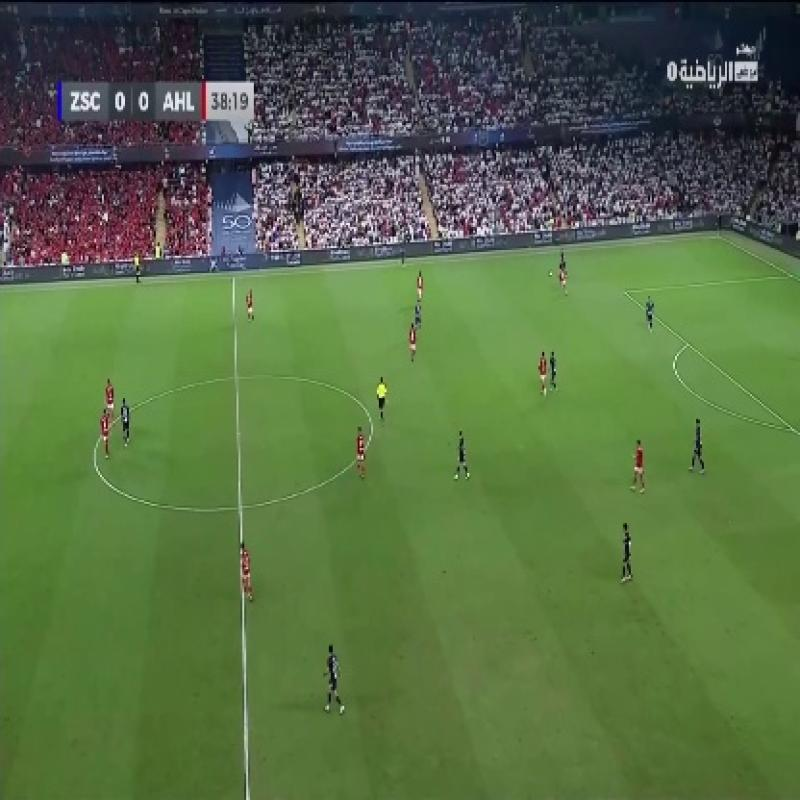1: (708, 228, 726, 242)
10: (678, 332, 694, 350)
11: (784, 415, 800, 438)
13: (224, 266, 242, 288)
14: (223, 362, 248, 392)
15: (225, 488, 250, 524)
2: (786, 267, 800, 282)
9: (617, 282, 631, 300)
c: (80, 436, 112, 485), (355, 401, 390, 445)
